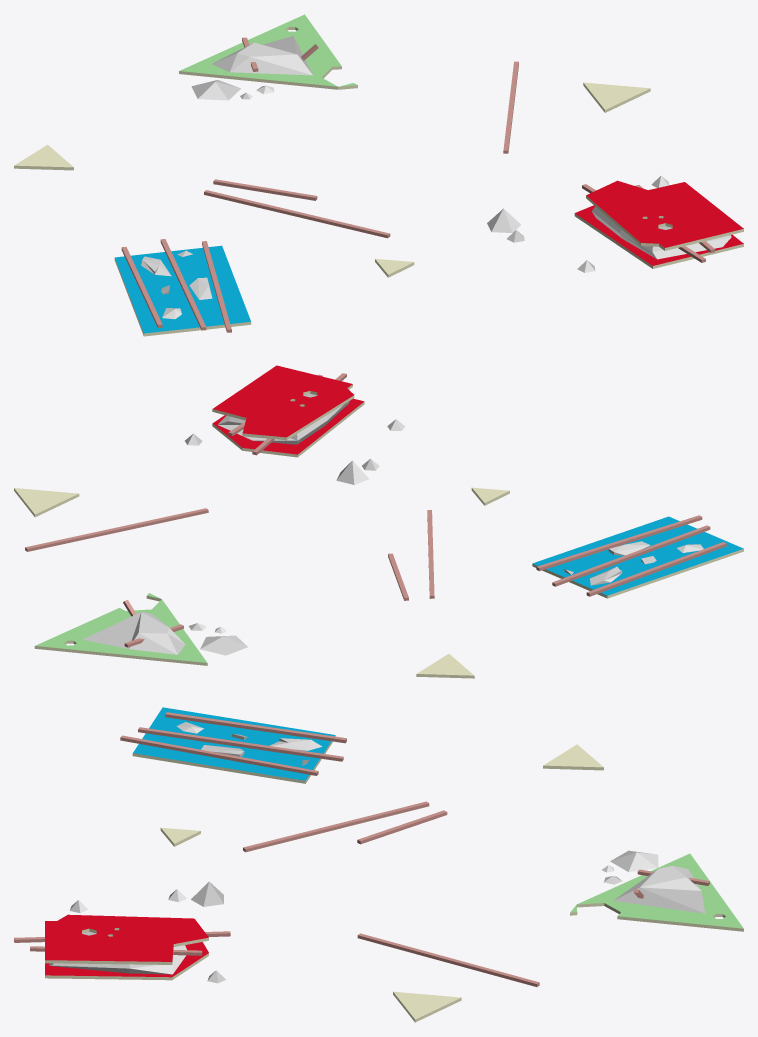
Rendered from Rumble.fbx.
3 views of the same model, one above another, from view 1: azimuth 30°, elevation 25°; view 2: azimuth 150°, elevation 25°; view 3: azimuth 270°, elevation 25° (orthographic). The views are drawn at different scales.
Visible parts, largest first — view 1: Rumble; view 2: Rumble; view 3: Rumble.
Part boxes in pixels (left/top/right/bottom): Rumble: left=14, top=14, right=743, bottom=336; Rumble: left=14, top=365, right=743, bottom=678; Rumble: left=14, top=707, right=743, bottom=1022.
Size of the model in its own units: 6.6 by 0.2143 by 6.52.
